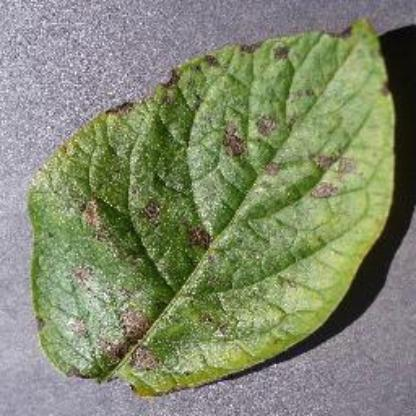Early-Blight: (25, 14, 401, 400)
